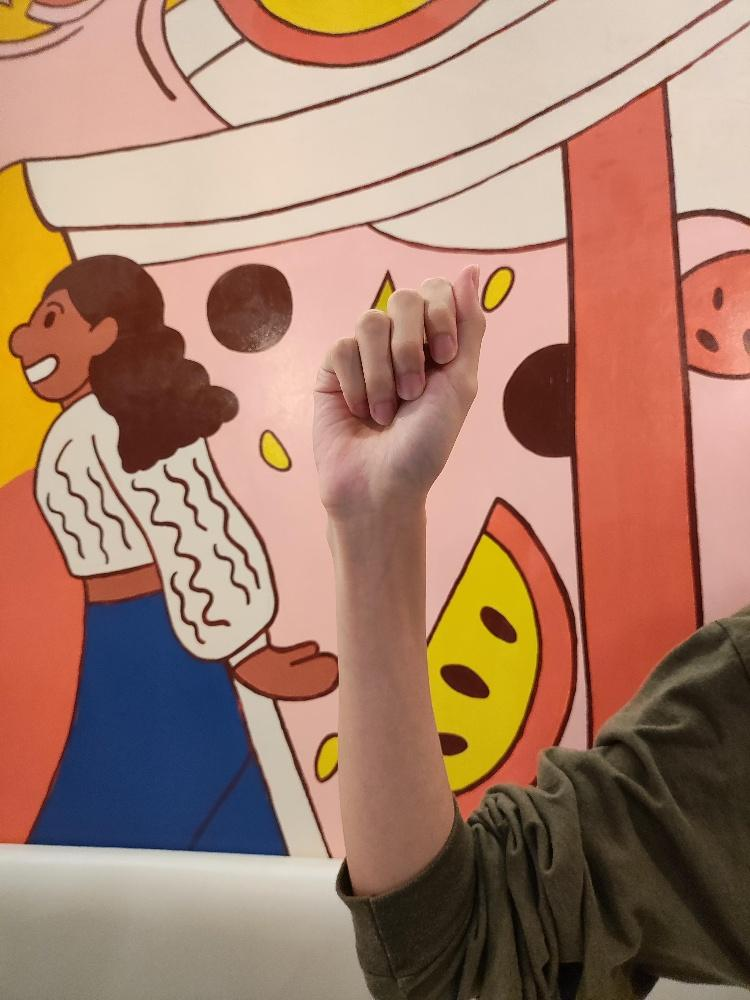a: (308, 258, 488, 522)
